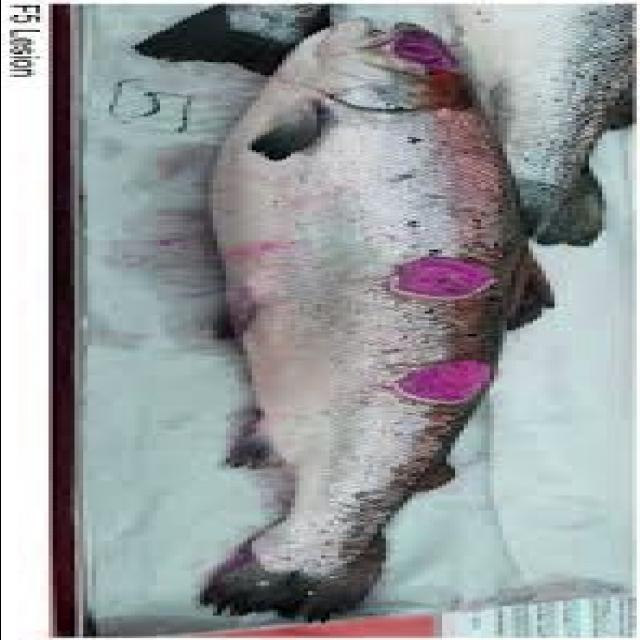EUS Disease: (208, 23, 556, 629), (356, 1, 484, 144), (362, 324, 508, 436), (372, 223, 532, 314), (219, 204, 296, 321)
